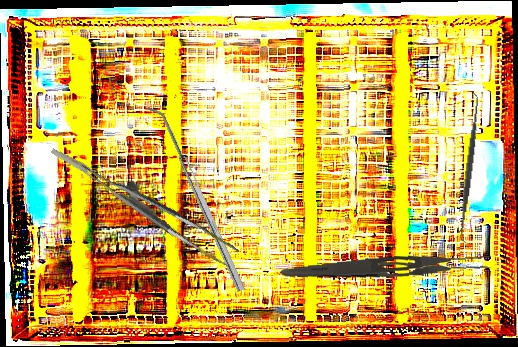Dressing Forceps: (279, 249, 495, 288)
Spatula Surgical: (147, 101, 245, 296), (451, 90, 487, 244)
Tissue Forceps: (50, 119, 240, 284)
